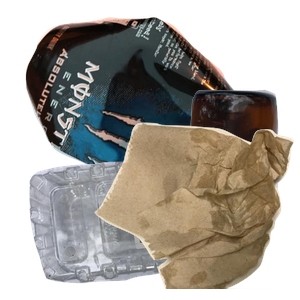glass: (87, 87, 300, 267)
metal: (23, 15, 263, 195)
plastic: (27, 152, 247, 300)
trash: (92, 120, 300, 300)
